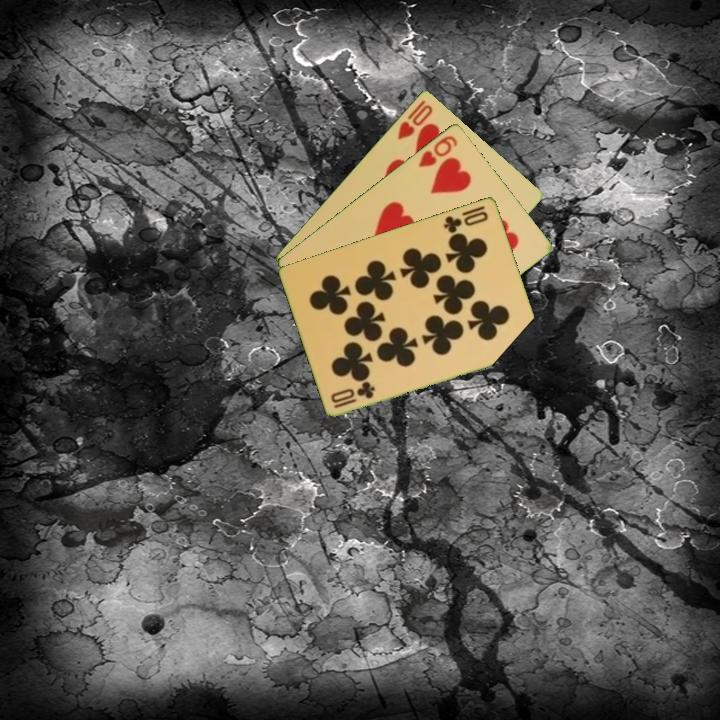10c: (327, 379, 378, 411), (440, 207, 491, 236)
10h: (394, 96, 436, 142)
6h: (414, 131, 460, 170)
